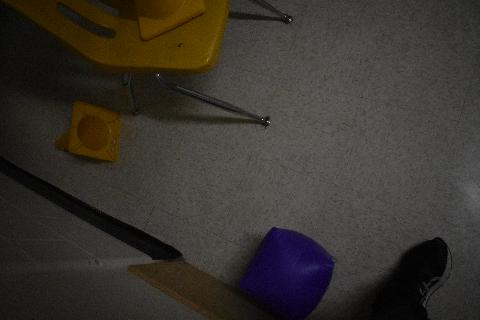cone: (54, 98, 120, 162), (134, 0, 208, 42)
cube: (236, 226, 336, 320)
